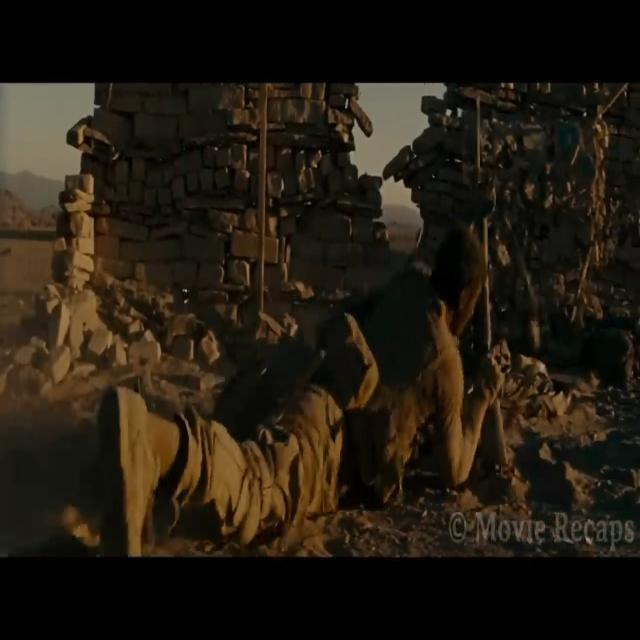MIL_Pax: (99, 227, 505, 554)
